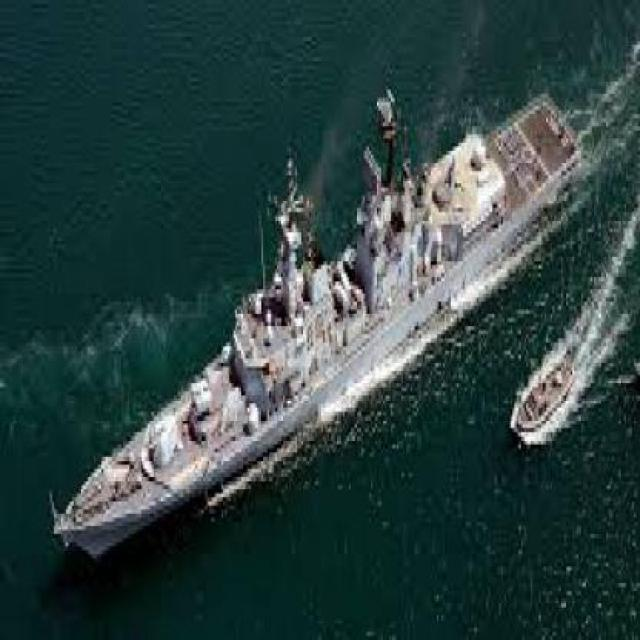warship2: (55, 38, 598, 593)
